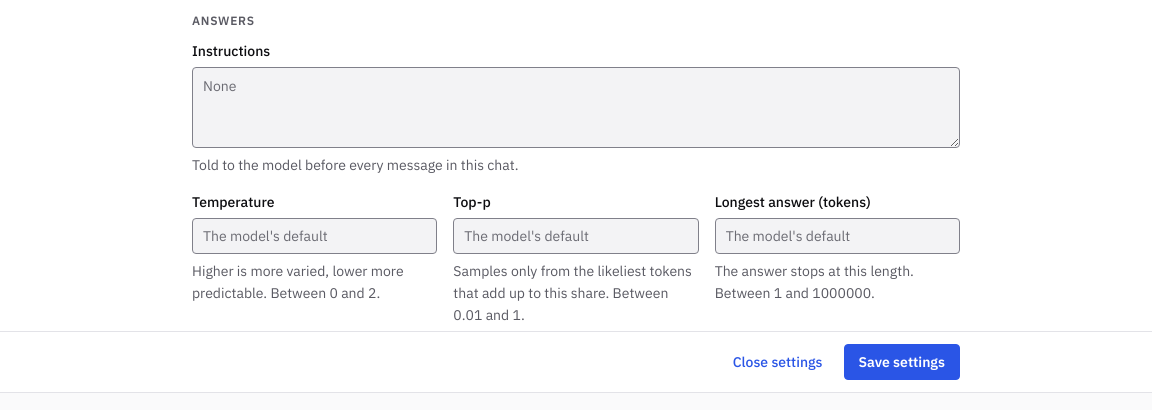
Scenario: announces the save as a status and names the buttons
The image size is (1152, 410).
Check: the button "Close settings" is shown, box left=724, top=346, right=832, bottom=378
Click the button "Save settings" at (902, 362), box left=844, top=344, right=960, bottom=380
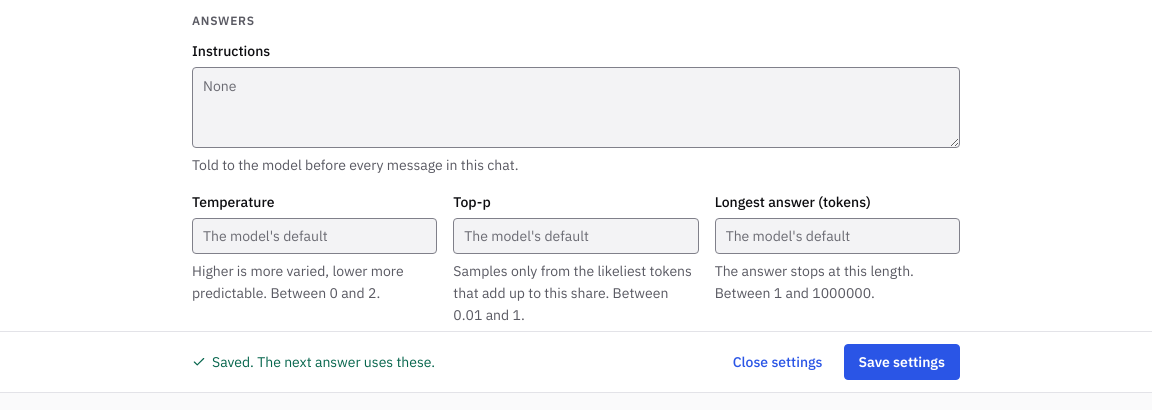
Check: the message reads "Saved. The next answer uses these.", box left=212, top=353, right=435, bottom=371
